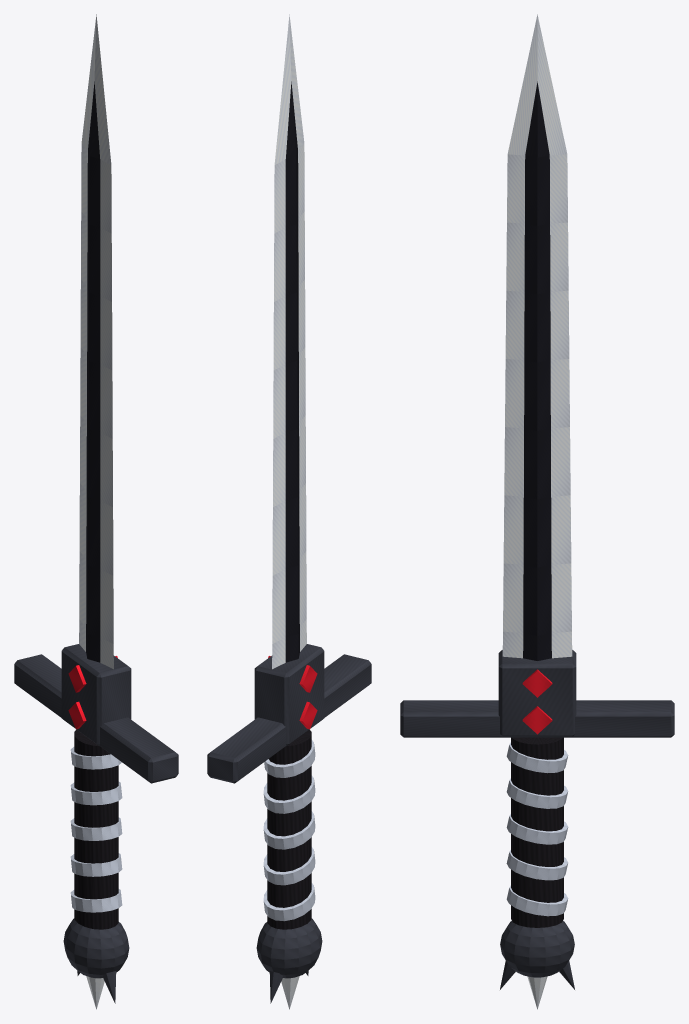
The model's file is Sword.obj.
The picture shows the model from 3 angles, left to right: view 1: azimuth 30°, elevation 25°; view 2: azimuth 150°, elevation 25°; view 3: azimuth 270°, elevation 25°; orthographic projection.
Visible parts, largest first — view 1: Sword; view 2: Sword; view 3: Sword.
Part boxes in pixels (x1=…): Sword: x1=14, y1=14, x2=178, y2=1009; Sword: x1=207, y1=14, x2=371, y2=1009; Sword: x1=400, y1=14, x2=674, y2=1009.
Size of the model in its own units: 0.3475 by 6.24 by 1.56.
1 material, 1 textured.
